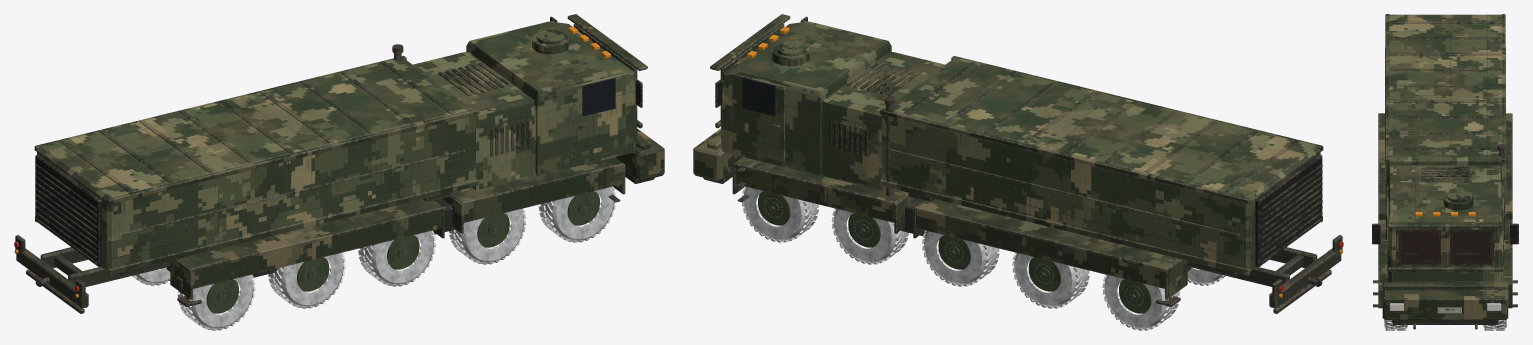
File: sapsan.glb
3 renders of one model, left to right at view 1: azimuth 30°, elevation 25°; view 2: azimuth 150°, elevation 25°; view 3: azimuth 270°, elevation 25°, orthographic. The views are drawn at different scales.
Parts seen in each view (by area): view 1: container, cab, chassis, tyres, rims, wheel_bolts; view 2: container, cab, chassis, tyres, rims, wheel_bolts; view 3: cab, container, chassis, tyres.
Part boxes in pixels (x1,y1,x2,y2): container: (34, 56, 478, 276); cab: (413, 14, 664, 190); chassis: (14, 44, 654, 313); tyres: (132, 186, 616, 330); rims: (206, 191, 599, 313); wheel_bolts: (213, 197, 594, 306); container: (879, 56, 1323, 276); cab: (693, 14, 944, 190); chassis: (703, 95, 1343, 313); tyres: (742, 186, 1225, 330); rims: (758, 191, 1151, 313); wheel_bolts: (763, 197, 1144, 306); cab: (1372, 165, 1518, 319); container: (1385, 14, 1505, 219); chassis: (1373, 113, 1517, 329); tyres: (1384, 320, 1506, 330).
Bounding box in the file's own units: 12.48 × 3.46 × 3.32.
6 materials, 6 textured.
